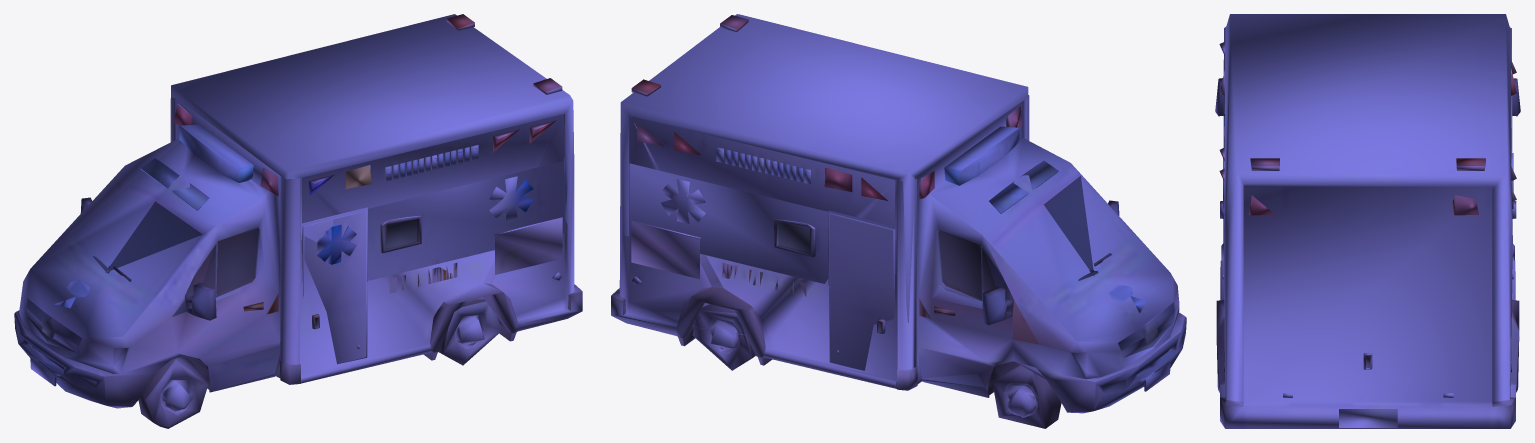
File: model.progressive.glb
The picture shows the model from 3 angles, left to right: view 1: azimuth 30°, elevation 25°; view 2: azimuth 150°, elevation 25°; view 3: azimuth 270°, elevation 25°; orthographic projection. The views are drawn at different scales.
Visible parts, largest first — view 1: material; view 2: material; view 3: material.
Boxes of the visible parts, box(x1,y1,x2,y2) form: material: box(14, 14, 582, 428); material: box(611, 14, 1186, 428); material: box(1215, 14, 1520, 428).
Size of the model in its own units: 1.89 by 0.9192 by 0.8845.
Materials: 1 (1 with a texture image).
